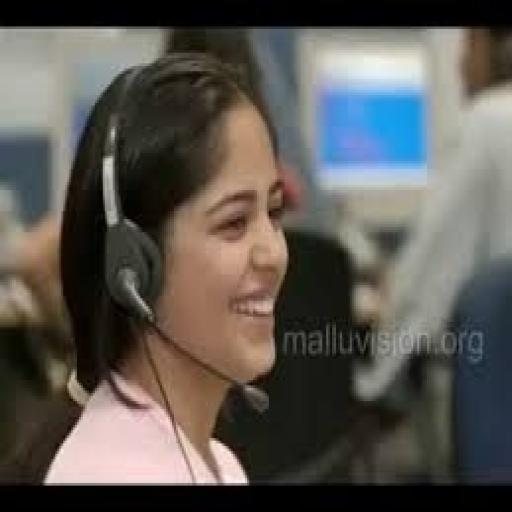calling: (40, 48, 294, 486)
